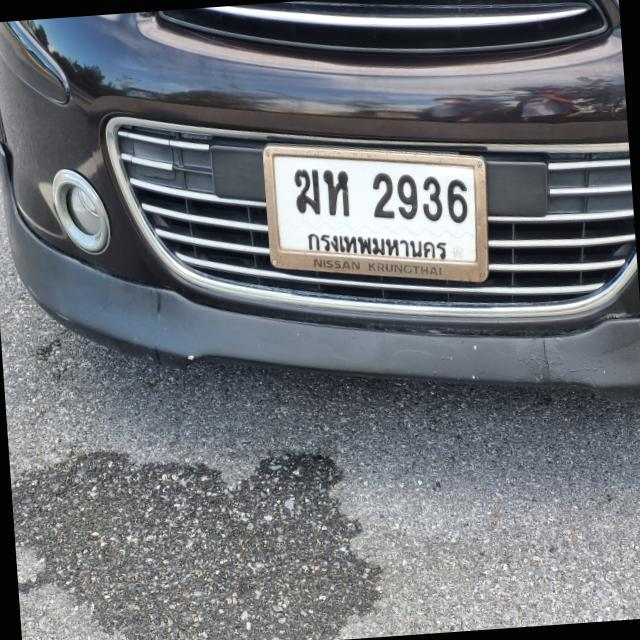license_plate: (258, 125, 494, 301)
